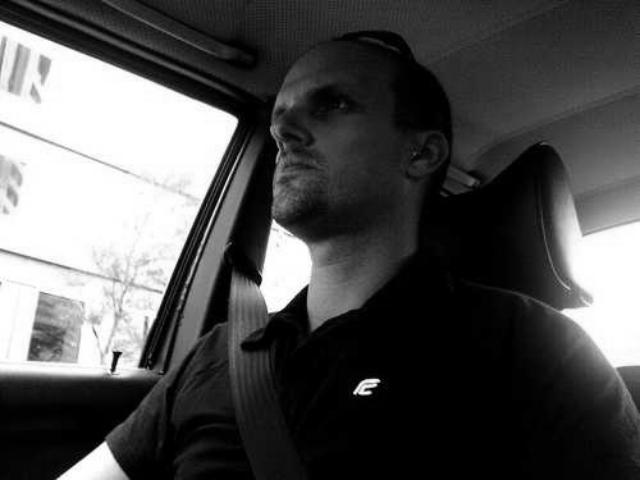Seatbelt: (222, 246, 278, 480)
